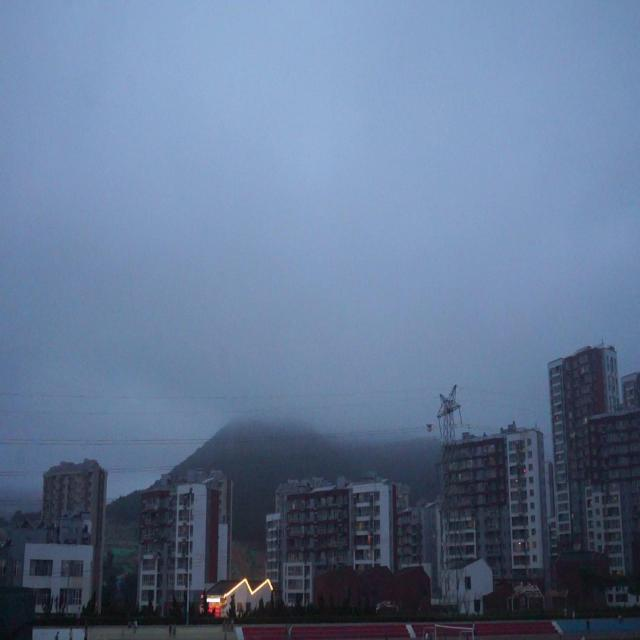drone: (426, 418, 432, 434)
